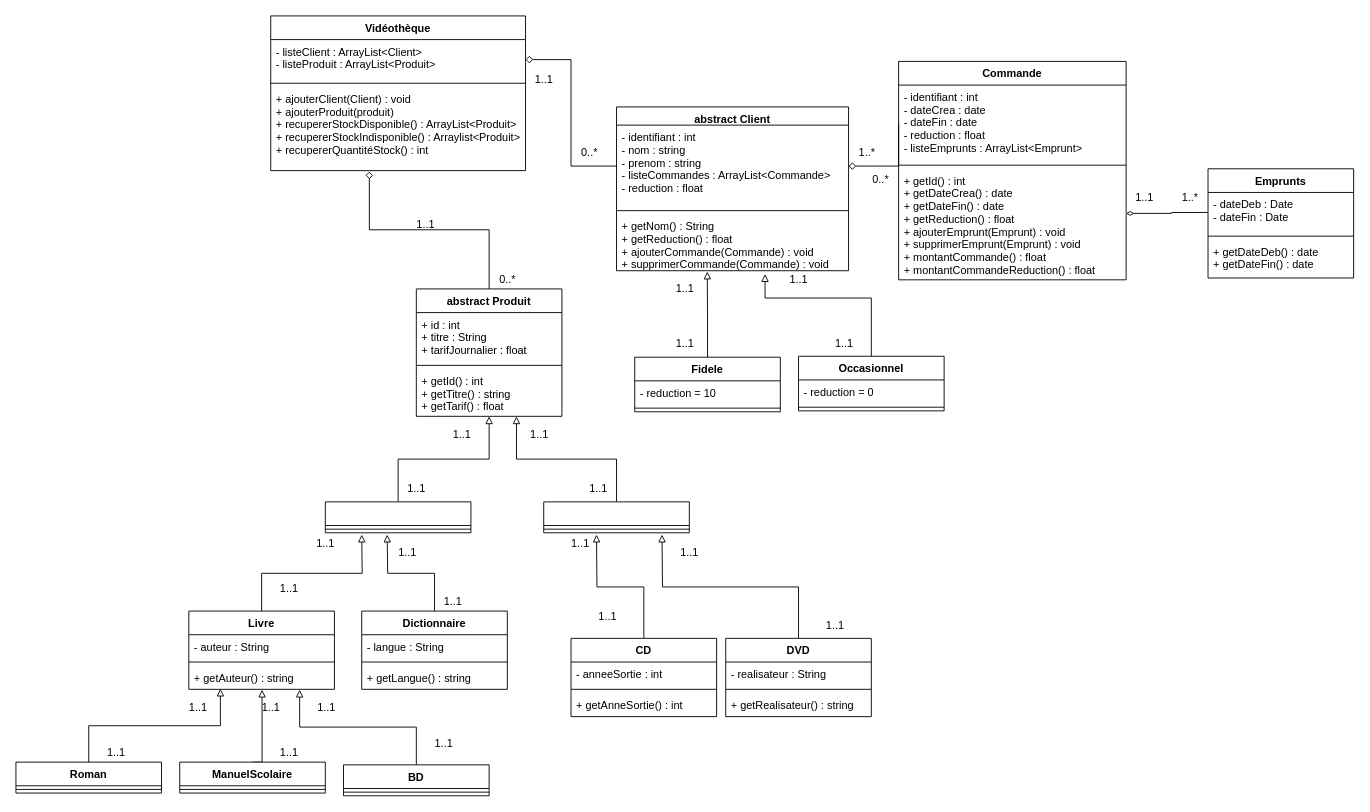
Some shapes in this 1370 by 812 pixel diagram are drawn without their labels. The centre of each missing label's shape, as x and y in pixels:
"Document" goes at (397,517).
"SuportNumerique" goes at (616,517).
